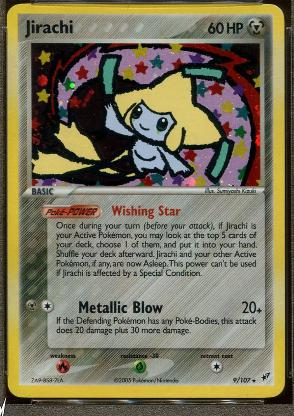Card: (5, 0, 287, 398)
